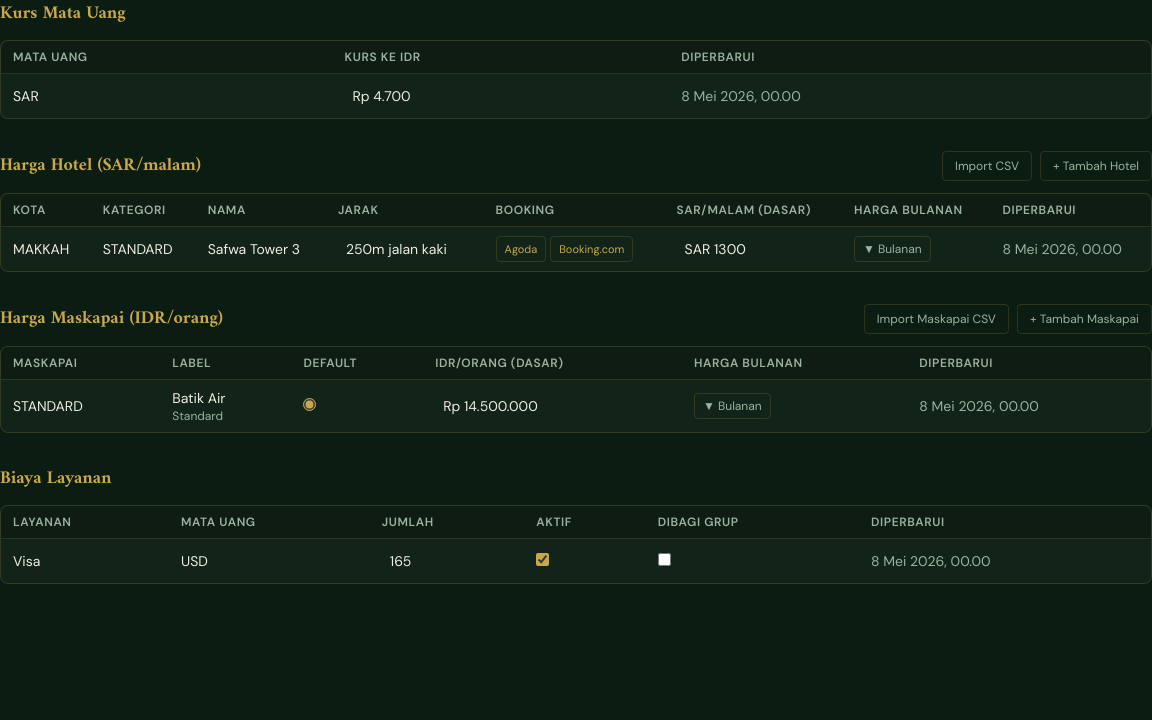
Test case: PricingTable hotel CSV import › shows the import panel and template link without removing manual add
This screenshot has width=1152, height=720.
Click the button "Import CSV" at (987, 166), box [942, 151, 1032, 181]
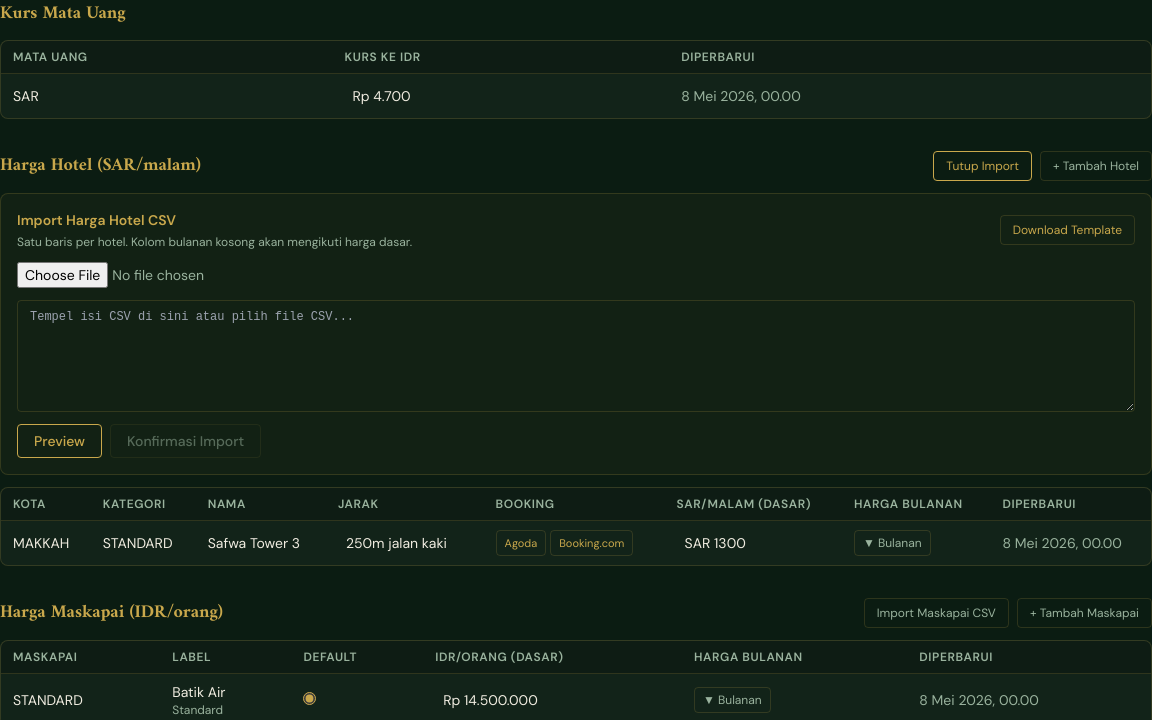
Expected: the button "+ Tambah Hotel" is shown, [1040, 151, 1151, 181]
Now the text "Import Harga Hotel CSV" is shown, box [17, 211, 176, 229]
